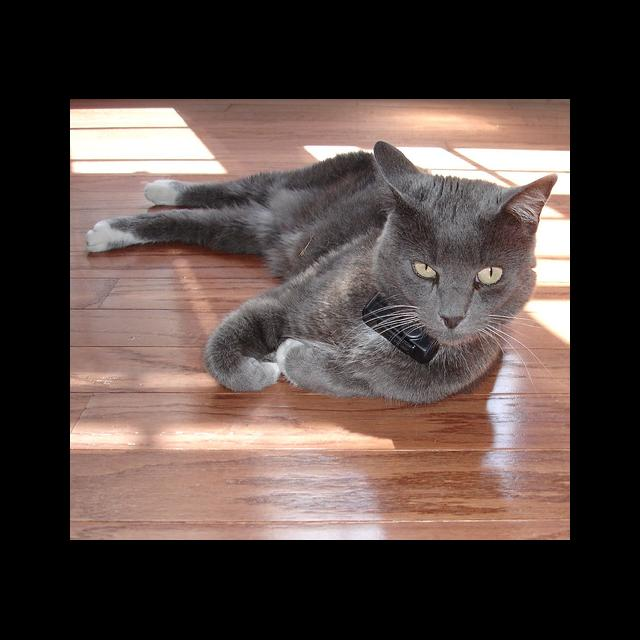animals: (379, 142, 555, 326)
